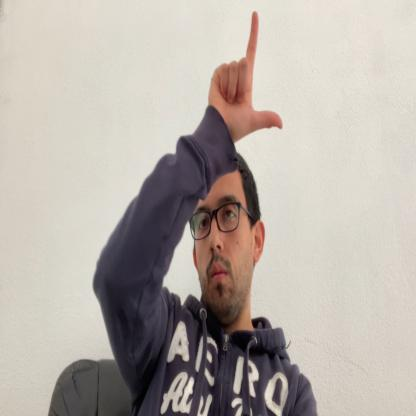L: (209, 10, 283, 145)
